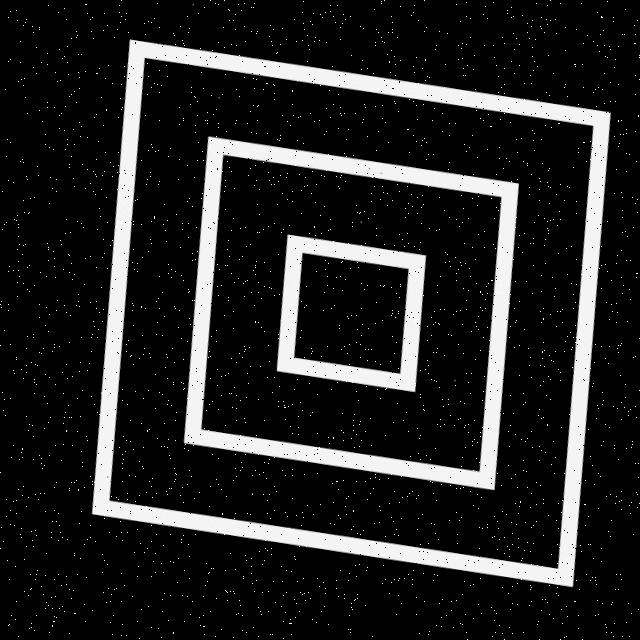BULLSEYE: (22, 0, 640, 635)
